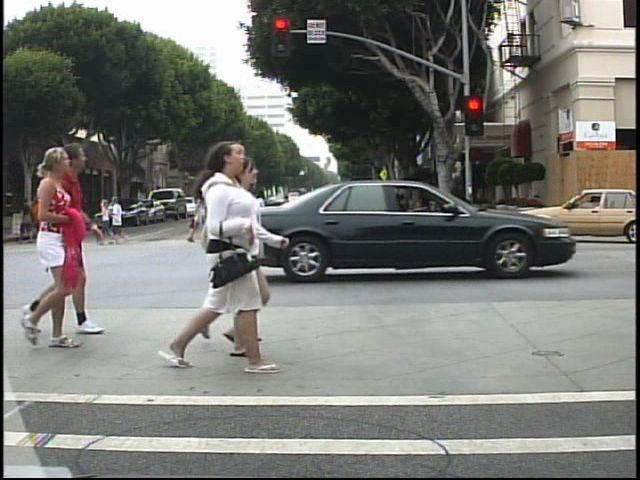person: (182, 137, 273, 379), (205, 148, 283, 353), (224, 159, 297, 369), (28, 146, 79, 353), (54, 138, 96, 336), (361, 177, 388, 241), (191, 185, 213, 248), (250, 183, 273, 241), (41, 193, 65, 248), (50, 186, 66, 239), (353, 187, 369, 223)
